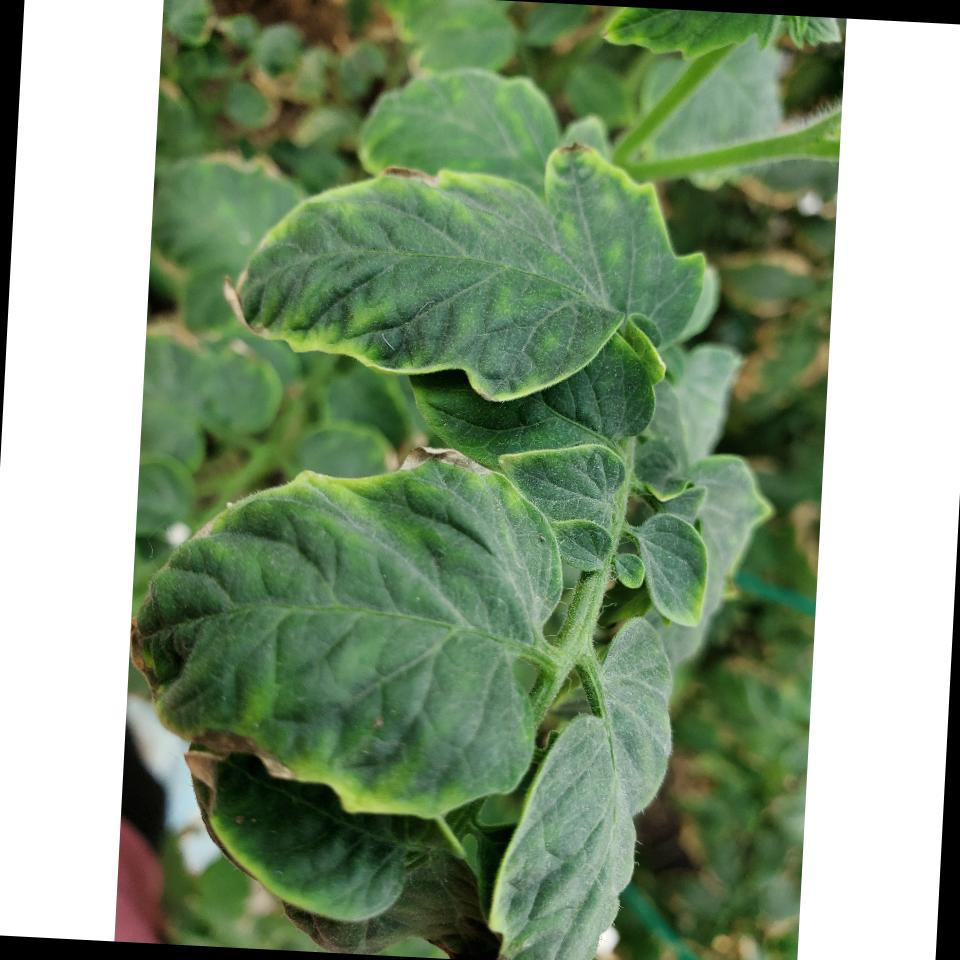tomato_bacterial_blight: (120, 426, 582, 826), (210, 113, 727, 414)
